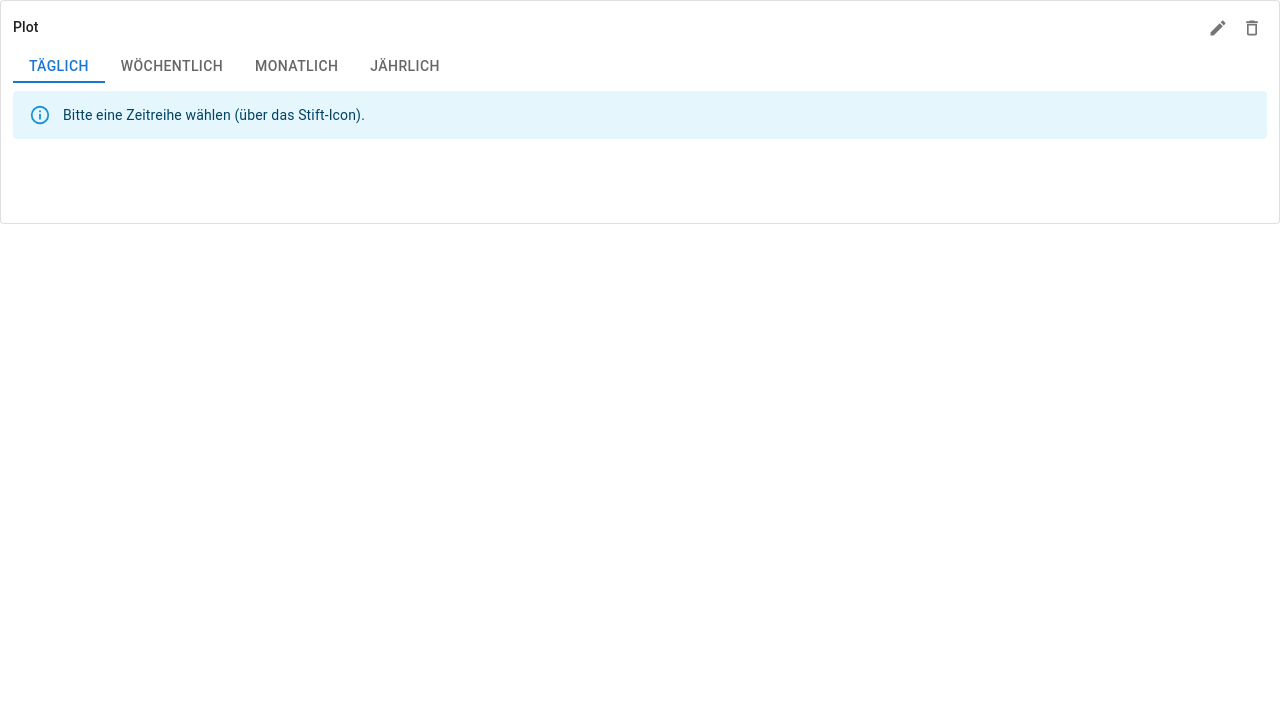
Scenario: WidgetPlot › opens drawer in edit mode with series dropdown
Click the button named "Plot bearbeiten".
click(1218, 28)  # box [1203,13,1233,43]
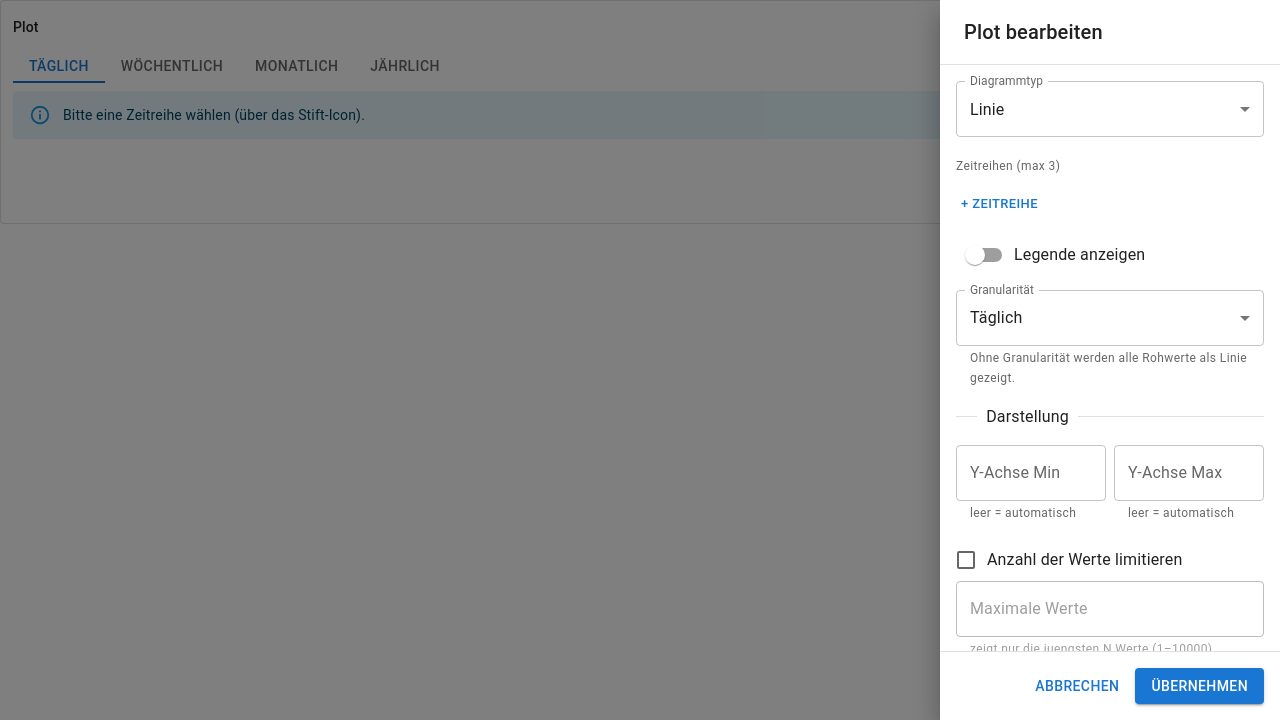
Check: the heading "Plot bearbeiten" is shown, box [964,16,1103,48]
